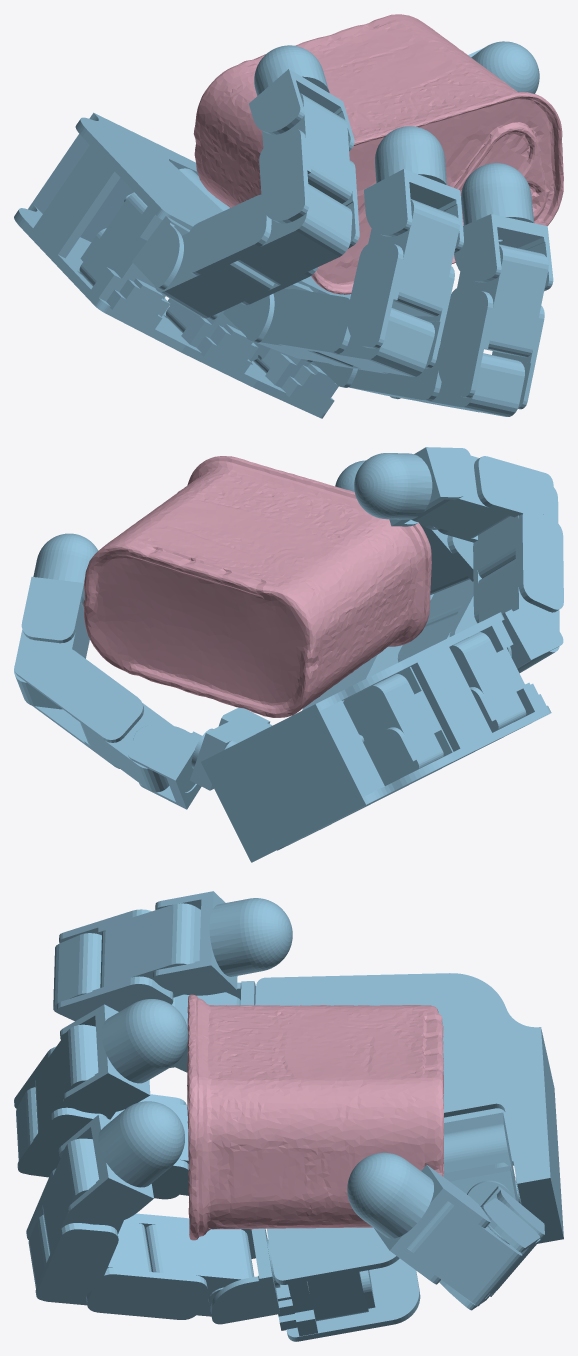
3 renders of one model, top to bottom at view 1: azimuth 30°, elevation 25°; view 2: azimuth 150°, elevation 25°; view 3: azimuth 270°, elevation 25°, orthographic. The views are drawn at different scales.
Parts seen in each view (by area): view 1: world; view 2: world; view 3: world.
Part boxes in pixels (x1,y1,x2,y2): world: [14, 14, 563, 418]; world: [14, 447, 563, 862]; world: [14, 891, 563, 1341].
Bounding box in the file's own units: 0.1928 × 0.1484 × 0.1787.
